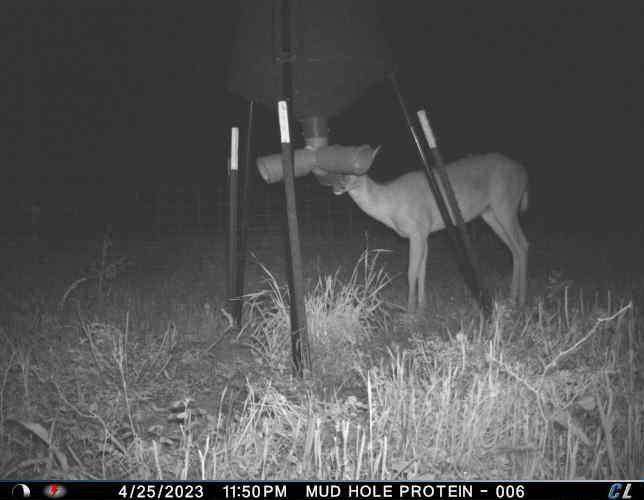Deer: (329, 148, 535, 315)
